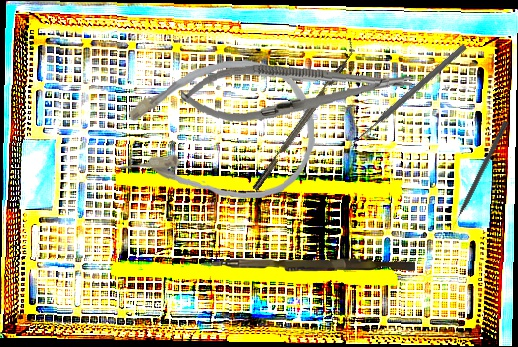Cannula: (113, 56, 318, 206)
Chopper: (245, 38, 362, 192)
Needle Holder: (179, 54, 414, 127)
Pusher: (350, 42, 468, 147), (447, 120, 510, 231), (200, 256, 416, 275)
